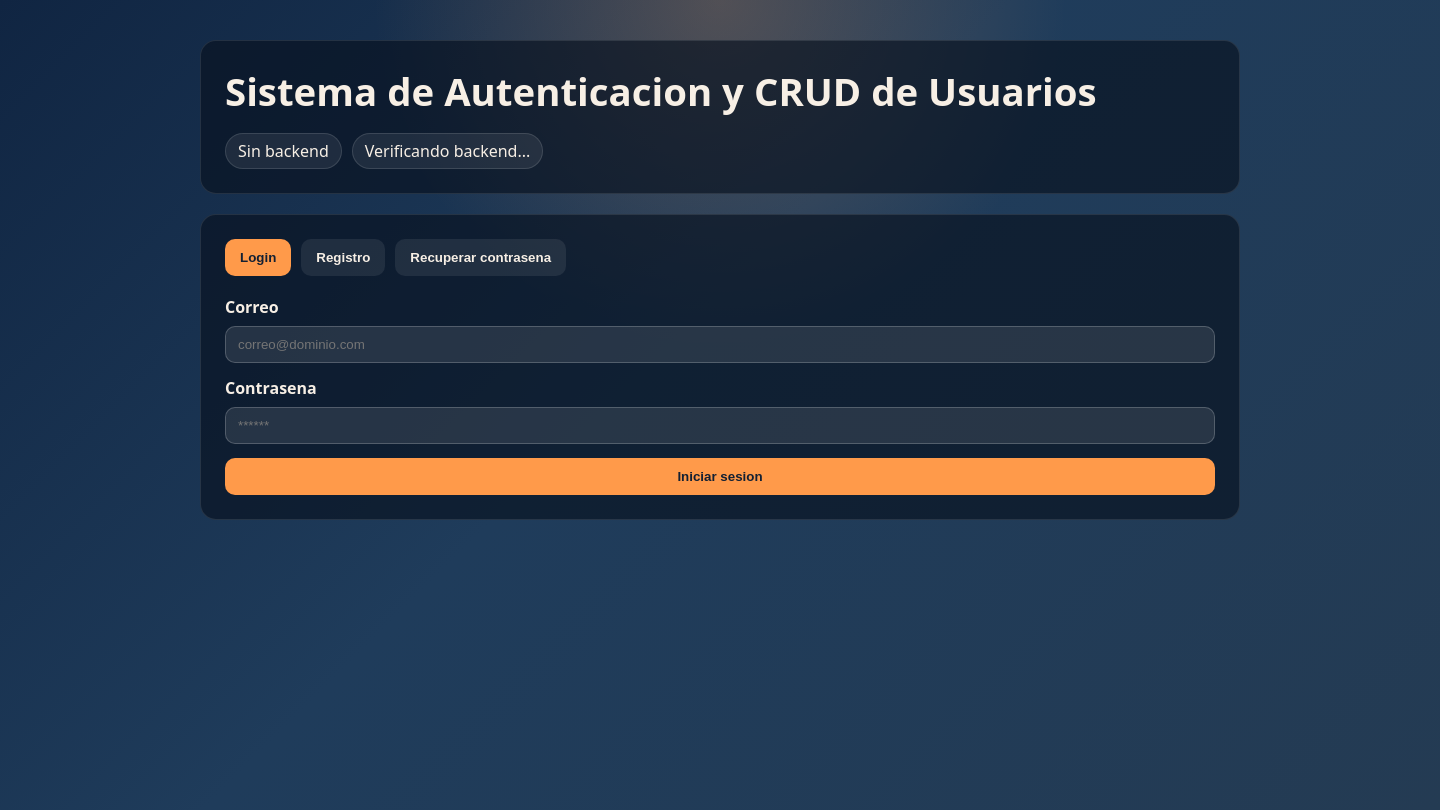
it: App › permite iniciar sesion y mostrar el CRUD de usuarios
Type "ana@empresa.com" into the field labelled "Correo" at (720, 344), box [225,326,1215,363]
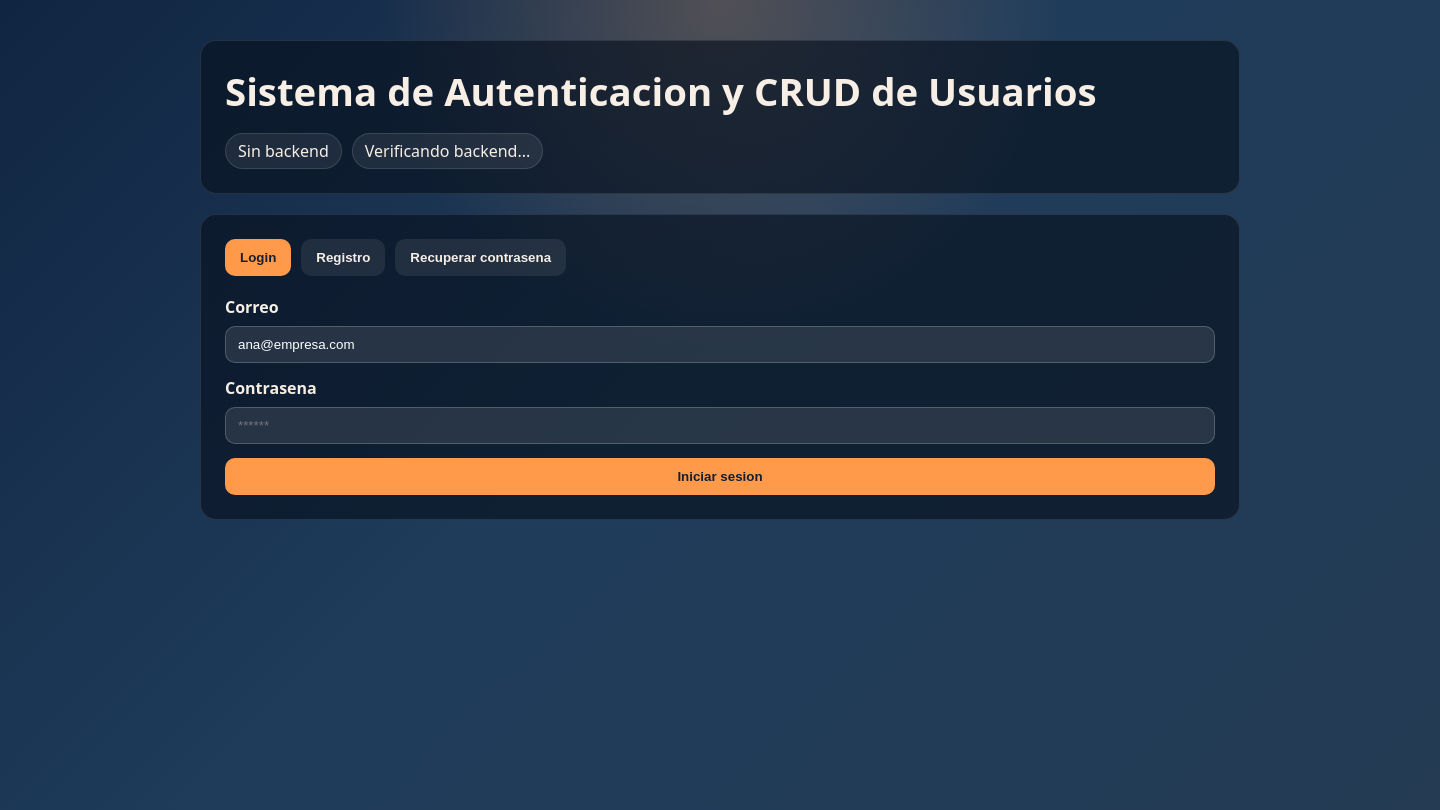
Type "123456" into the password field labelled "Contrasena" at (720, 426), box [225,407,1215,444]
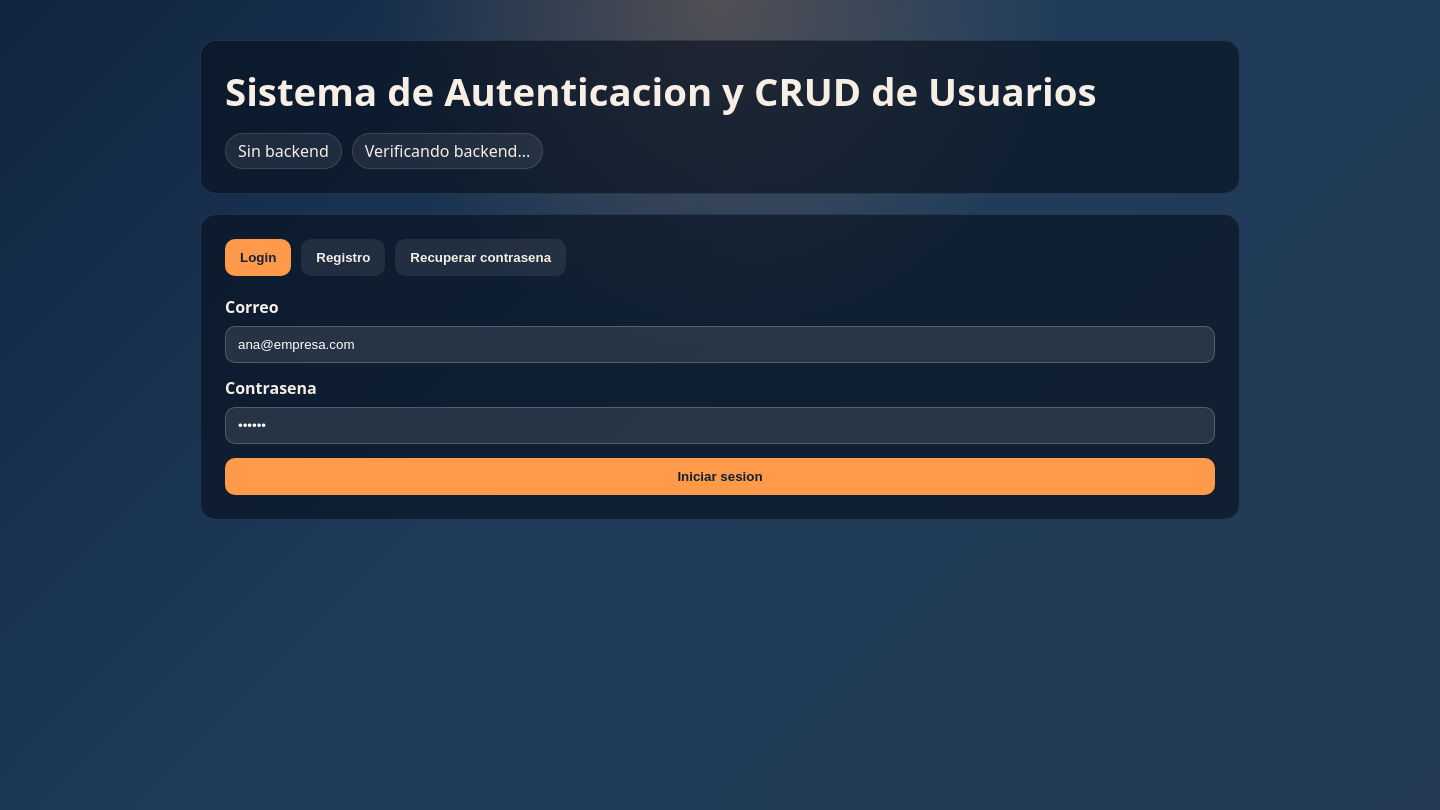
Click the button "Iniciar sesion" at (720, 476), box [225,458,1215,495]
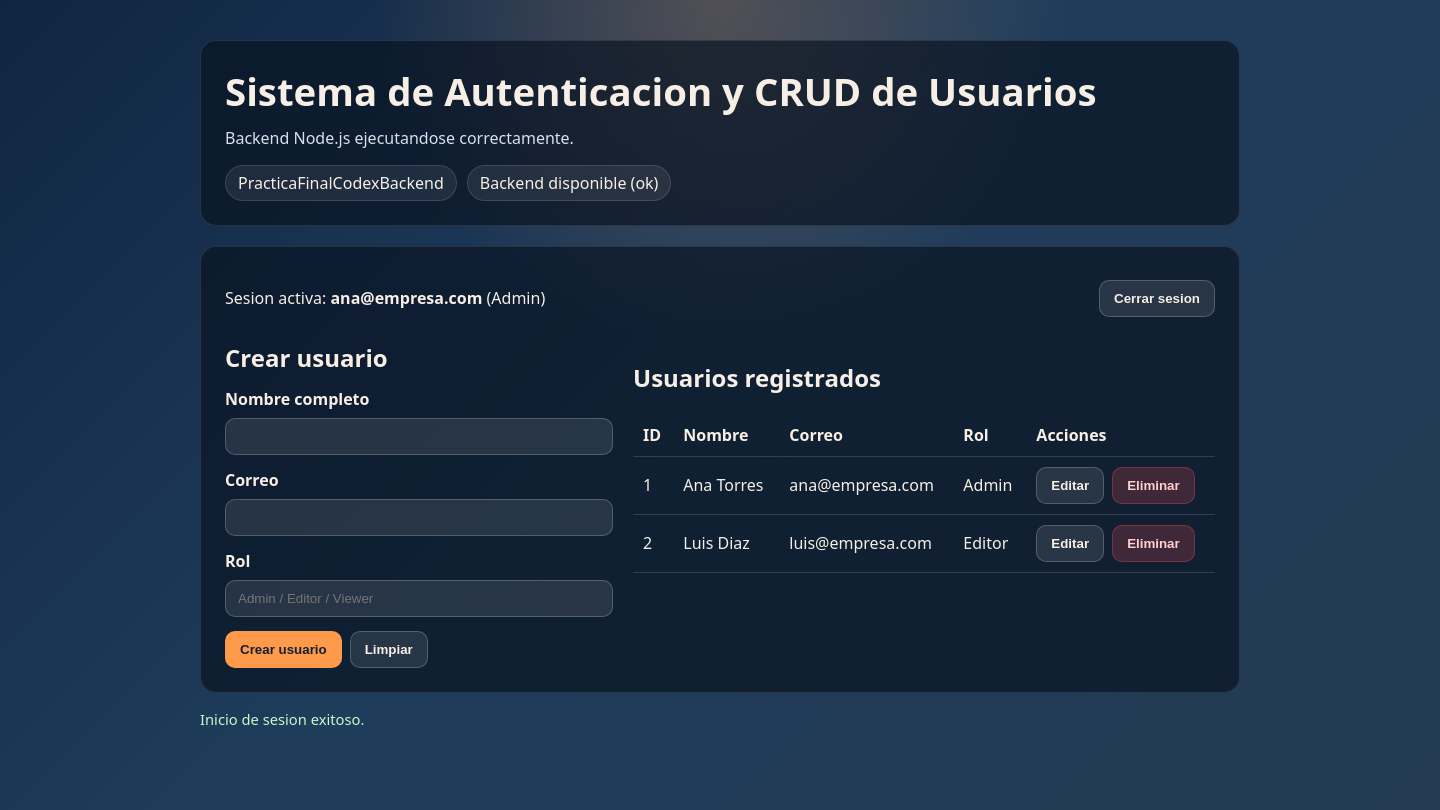
Result: the text "Sesion activa: ana@empresa.com (Admin)" is shown at [225,287,545,309]
Result: the text "Ana Torres" is shown at [673,456,779,514]
Result: the button "Crear usuario" is shown at [225,631,342,668]
